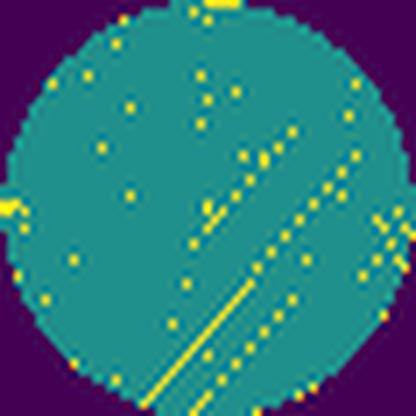Scratch: (136, 147, 366, 416), (195, 123, 303, 236)
